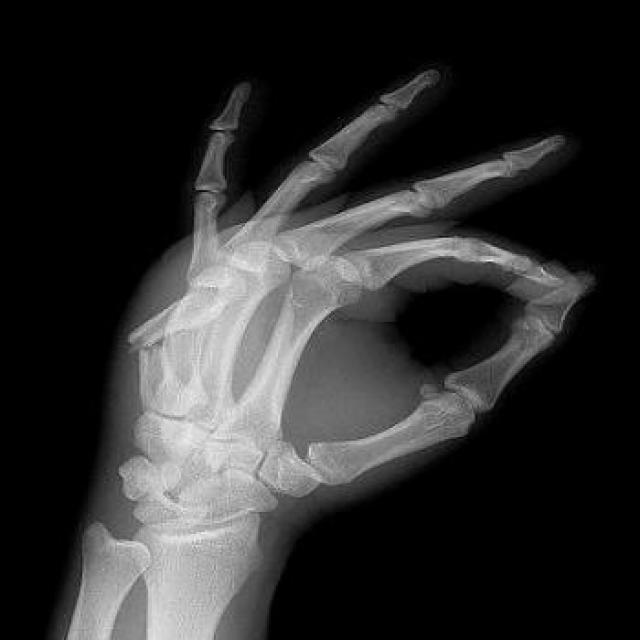fracture: (116, 318, 167, 369)
